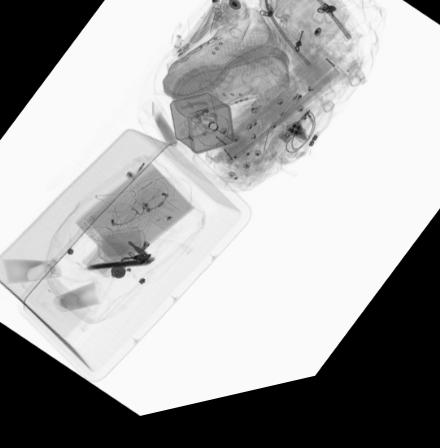Lighter: (274, 102, 304, 130)
